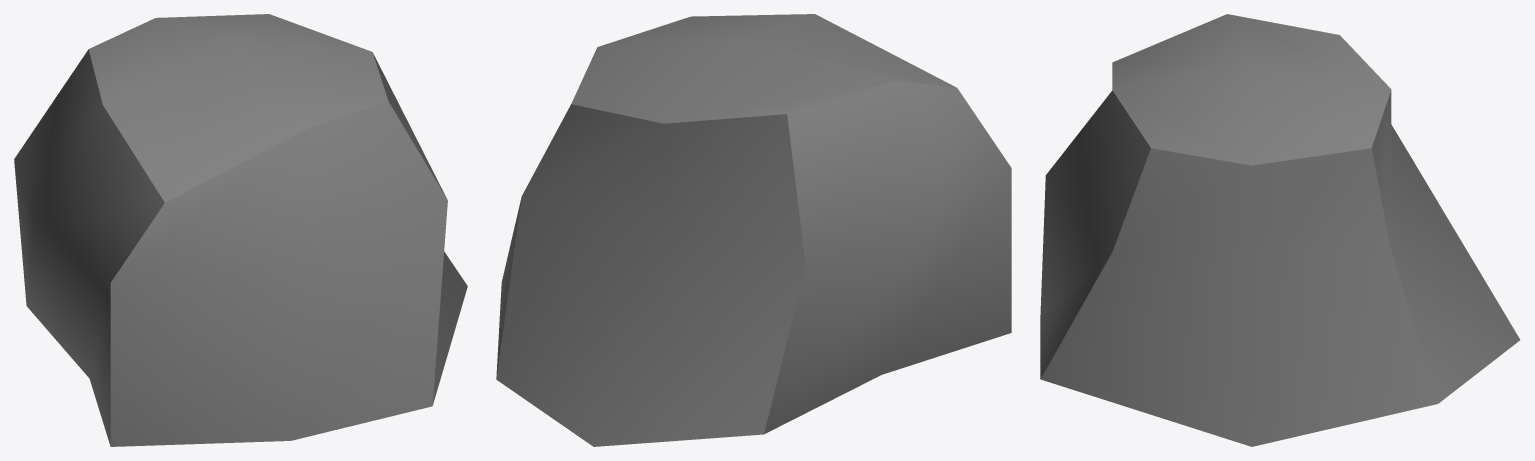
The model's file is rock3grisfonce.FBX.
3 views of the same model, side by side, from view 1: azimuth 30°, elevation 25°; view 2: azimuth 150°, elevation 25°; view 3: azimuth 270°, elevation 25° (orthographic). The views are drawn at different scales.
Visible parts, largest first — view 1: Box004; view 2: Box004; view 3: Box004.
Part boxes in pixels (left/top/right/bottom): Box004: left=14, top=14, right=467, bottom=446; Box004: left=496, top=14, right=1011, bottom=446; Box004: left=1040, top=14, right=1520, bottom=446.
Size of the model in its own units: 15.45 by 10.26 by 16.04.
